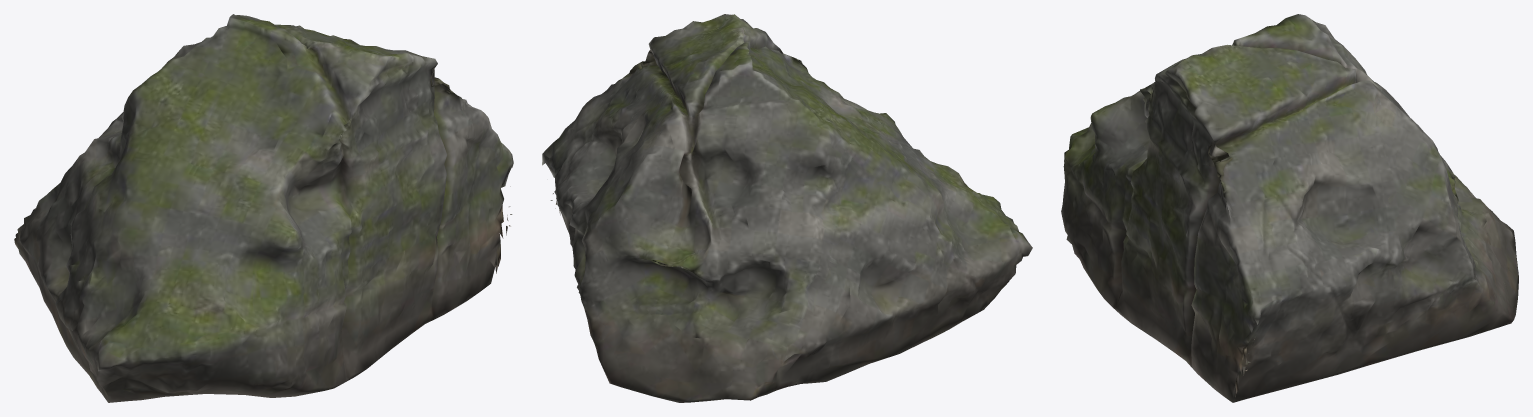
Rendered from kamen_droba_1.glb.
3 views of the same model, side by side, from view 1: azimuth 30°, elevation 25°; view 2: azimuth 150°, elevation 25°; view 3: azimuth 270°, elevation 25° (orthographic). The views are drawn at different scales.
Visible parts, largest first — view 1: kamen_droba_1; view 2: kamen_droba_1; view 3: kamen_droba_1.
Boxes of the visible parts, left/top/right/bottom form: kamen_droba_1: left=14, top=14, right=513, bottom=402; kamen_droba_1: left=542, top=14, right=1032, bottom=402; kamen_droba_1: left=1061, top=14, right=1518, bottom=402.
Size of the model in its own units: 0.8336 by 0.4999 by 0.708.
1 material, 1 textured.
